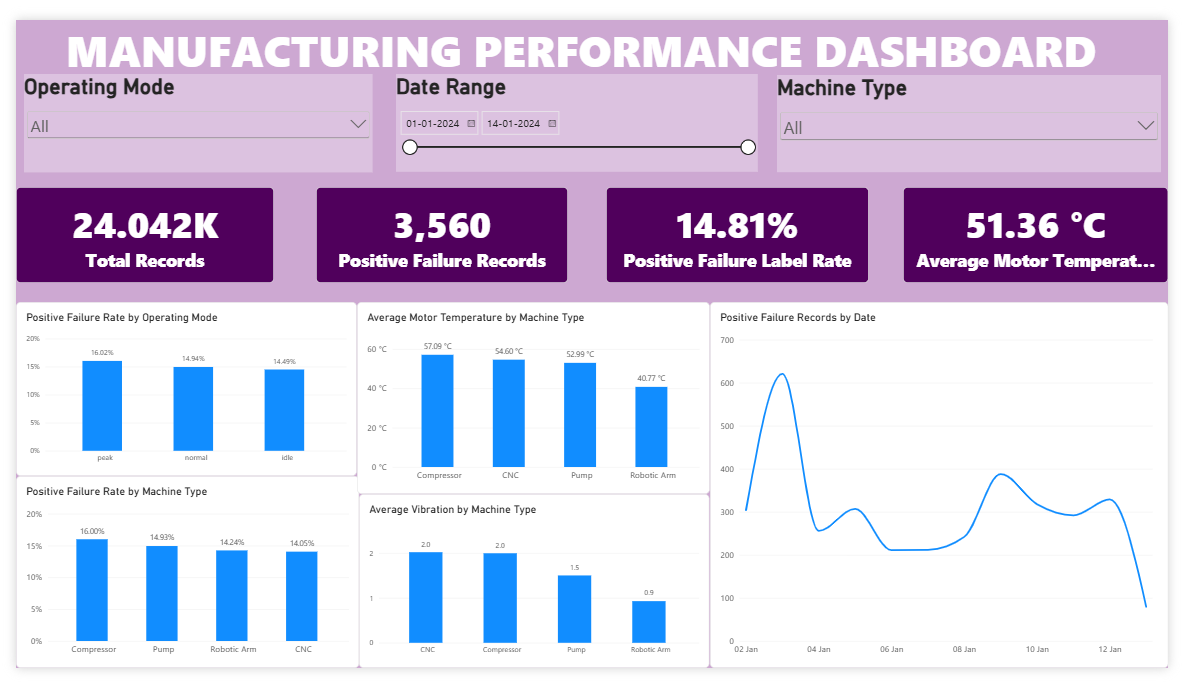

This screenshot's page, from the dashboard's own definition file:
{"tool":"powerbi","page":{"name":"Page 1","canvas":[1920,1080],"ordinal":0},"visuals":[{"type":"textbox","box":[84,0,1836.4,179.5],"z":7},{"type":"card","fields":{"Values":["manufacturing_cleaned.Total Records"]},"box":[0,278,430,160],"z":8},{"type":"card","fields":{"Values":["manufacturing_cleaned.Positive Failure Records"]},"box":[500,278,420,160],"z":9},{"type":"card","fields":{"Values":["manufacturing_cleaned.Positive Failure Label Rate"]},"box":[984,278,438,160],"z":10},{"type":"card","fields":{"Values":["manufacturing_cleaned.Average Motor Temperature"]},"box":[1478,278,442,160],"z":11},{"type":"clusteredColumnChart","title":"Positive Failure Rate by Machine Type","fields":{"Category":["manufacturing_cleaned.machine_type"],"Y":["manufacturing_cleaned.Positive Failure Label Rate"]},"box":[0,760,572,320],"z":12},{"type":"clusteredColumnChart","title":"Positive Failure Rate by Operating Mode","fields":{"Category":["manufacturing_cleaned.operating_mode"],"Y":["manufacturing_cleaned.Positive Failure Label Rate"]},"box":[0,470,568,290],"z":13},{"type":"clusteredColumnChart","title":"Average Motor Temperature by Machine Type","fields":{"Category":["manufacturing_cleaned.machine_type"],"Y":["manufacturing_cleaned.Average Motor Temperature"]},"box":[568,470,588,320],"z":14},{"type":"clusteredColumnChart","title":"Average Vibration by Machine Type","fields":{"Category":["manufacturing_cleaned.machine_type"],"Y":["manufacturing_cleaned.Average Vibration"]},"box":[572,790,584,290],"z":15},{"type":"lineChart","title":"Positive Failure Records by Date","fields":{"Category":["manufacturing_cleaned.timestamp.Variation.Date Hierarchy.Year","manufacturing_cleaned.timestamp.Variation.Date Hierarchy.Quarter","manufacturing_cleaned.timestamp.Variation.Date Hierarchy.Month","manufacturing_cleaned.timestamp.Variation.Date Hierarchy.Day"],"Y":["manufacturing_cleaned.Positive Failure Records"]},"box":[1156,470,764,610],"z":16},{"type":"slicer","title":"Machine Type","fields":{"Values":["manufacturing_cleaned.machine_type"]},"box":[1268.3,91.7,640,161.7],"z":17},{"type":"slicer","title":"Date Range","fields":{"Values":["manufacturing_cleaned.timestamp"]},"box":[633.3,90,603.3,163.3],"z":18},{"type":"slicer","title":"Operating Mode","fields":{"Values":["manufacturing_cleaned.operating_mode"]},"box":[13.8,90,581.2,163.8],"z":19}]}

Visuals, with their boxes in screenshot pixels (x1, y1, x2, y2), scaled from the page's 1920x1080 canvas onto the 1190x686 screenshot:
textbox: crop(52, 0, 1189, 114)
card - manufacturing_cleaned.Total Records: crop(0, 177, 267, 278)
card - manufacturing_cleaned.Positive Failure Records: crop(310, 177, 570, 278)
card - manufacturing_cleaned.Positive Failure Label Rate: crop(610, 177, 881, 278)
card - manufacturing_cleaned.Average Motor Temperature: crop(916, 177, 1189, 278)
"Positive Failure Rate by Machine Type" clusteredColumnChart: crop(0, 483, 355, 685)
"Positive Failure Rate by Operating Mode" clusteredColumnChart: crop(0, 299, 352, 483)
"Average Motor Temperature by Machine Type" clusteredColumnChart: crop(352, 299, 716, 502)
"Average Vibration by Machine Type" clusteredColumnChart: crop(355, 502, 716, 685)
"Positive Failure Records by Date" lineChart: crop(716, 299, 1189, 685)
"Machine Type" slicer: crop(786, 58, 1183, 161)
"Date Range" slicer: crop(393, 57, 766, 161)
"Operating Mode" slicer: crop(9, 57, 369, 161)
